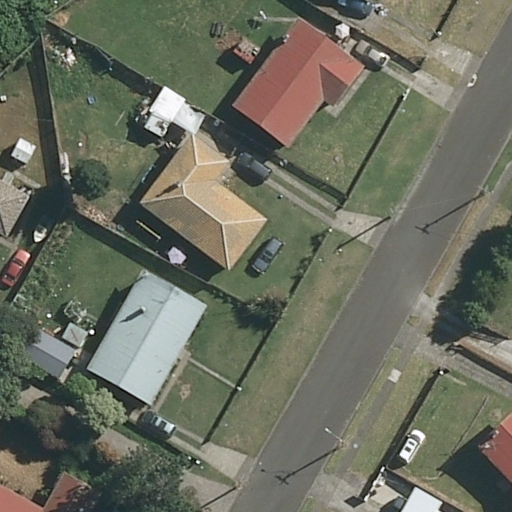DT: (323, 426, 346, 446), (478, 184, 489, 195)
